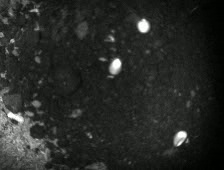corn: (107, 57, 124, 78), (171, 130, 189, 149), (135, 17, 152, 35)
